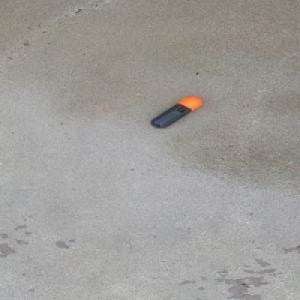PlasticPart: (149, 95, 203, 129)
